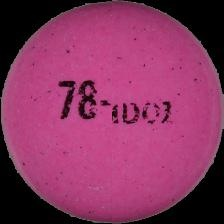12634-179: (0, 0, 224, 224)
